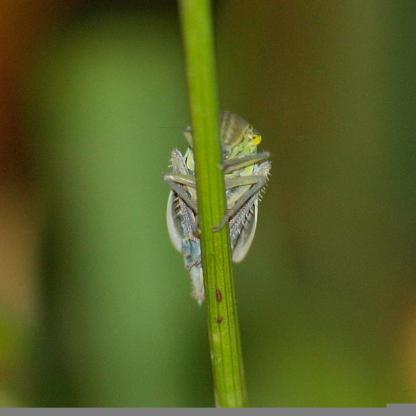Green-Leafhopper: (160, 106, 280, 305)
